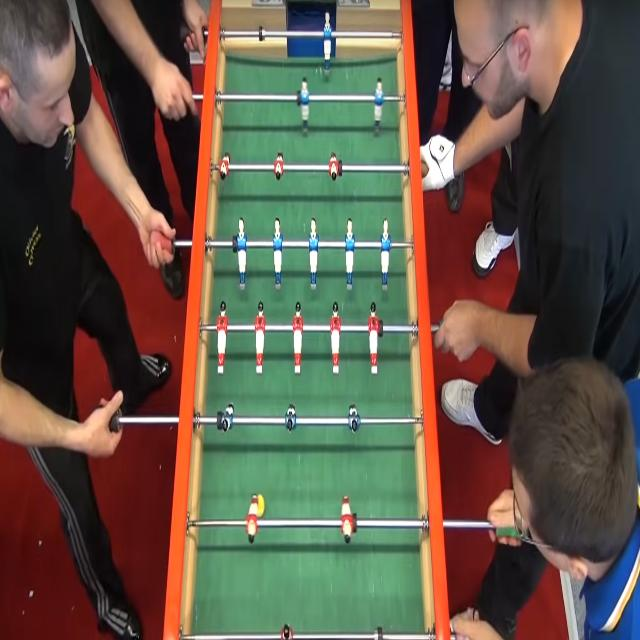ball: (253, 490, 266, 517)
